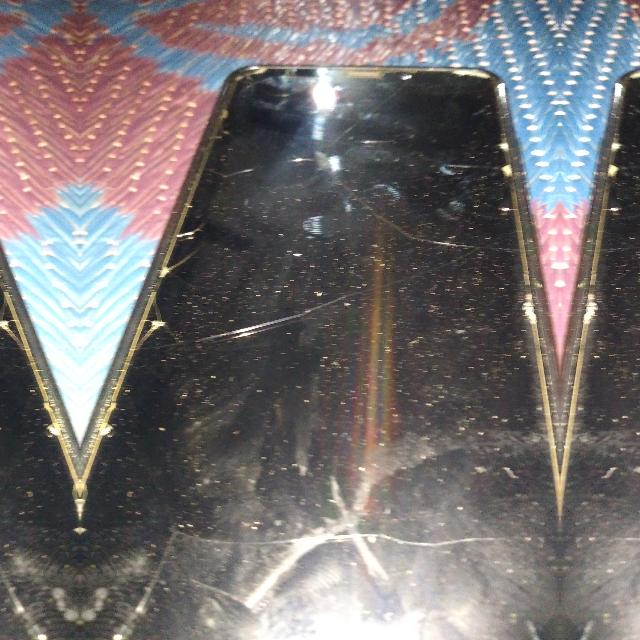phone_screen: (80, 69, 559, 639), (560, 73, 639, 639), (0, 285, 79, 639)
